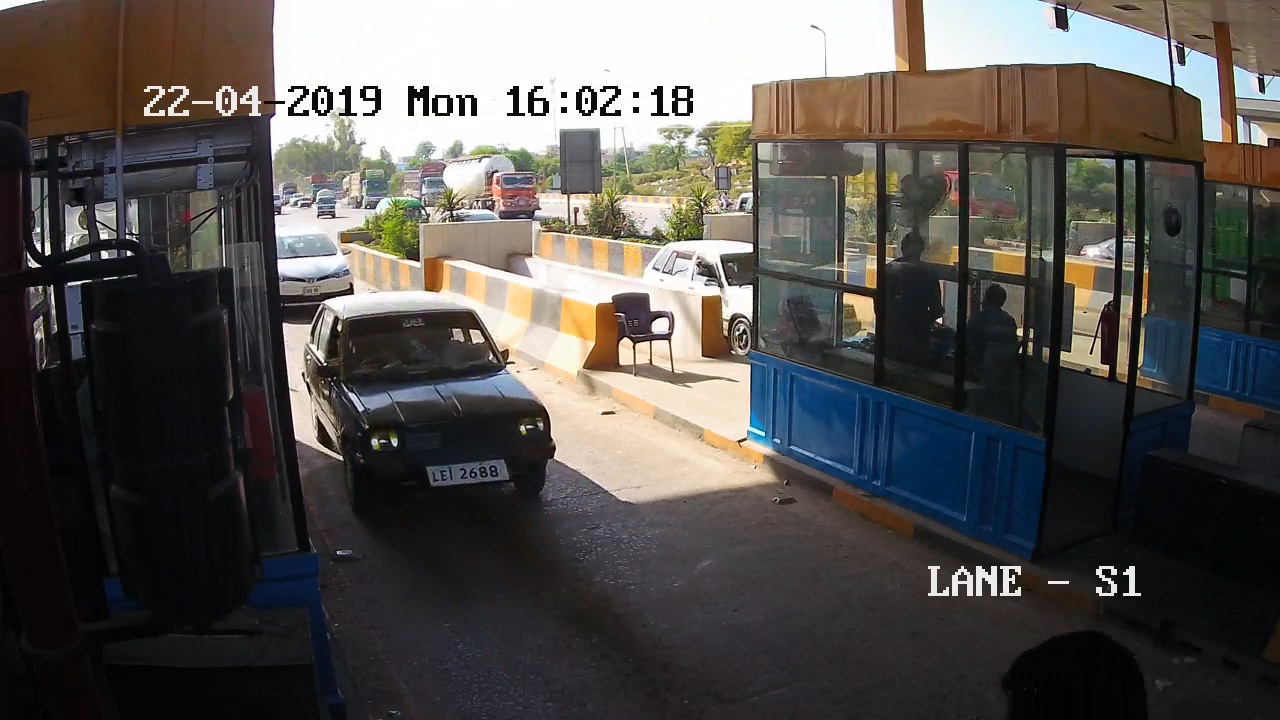car: (288, 278, 616, 546)
